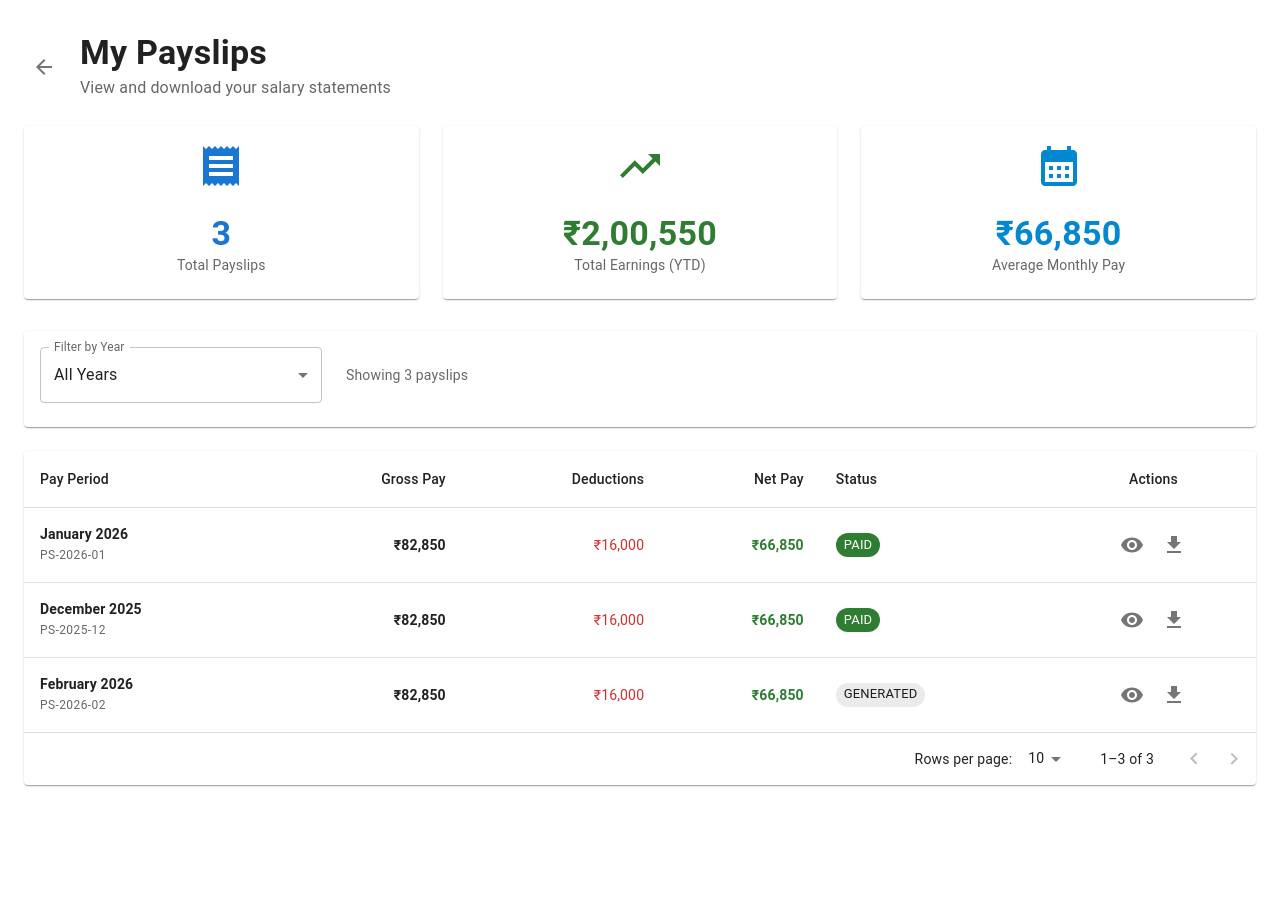
Test: EmployeePayslips › Year Filter › filters payslips by selected year
Expected: the text "January 2026" is shown, [40, 526, 128, 542]
// Open the year filter dropdown — first combobox (second is TablePagination)
Step 1. Click the dropdown labelled "All Years" → (86, 375), box [54, 366, 118, 384]
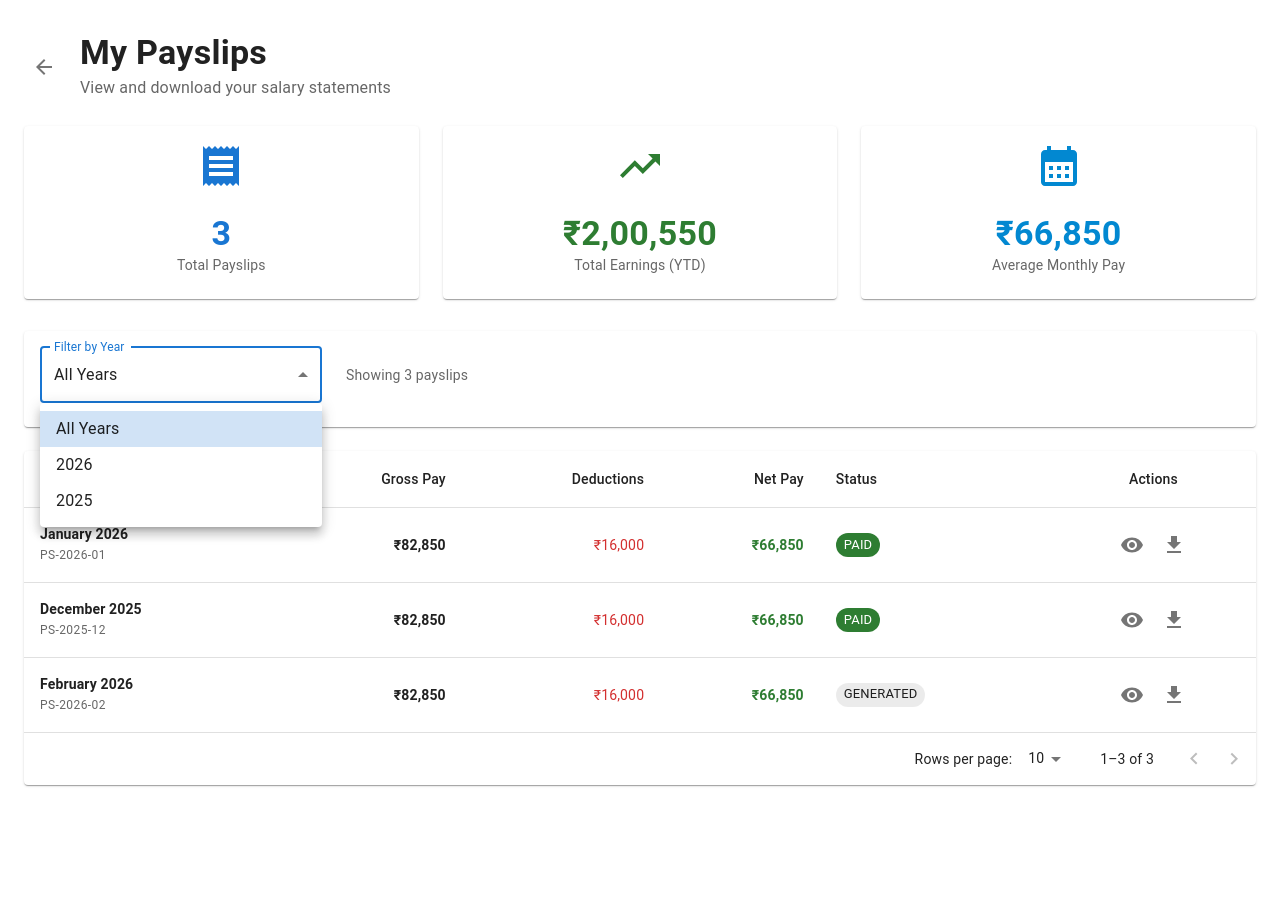
// Select 2025
Step 2. Click the option "2025" → (74, 500), box [56, 491, 93, 510]
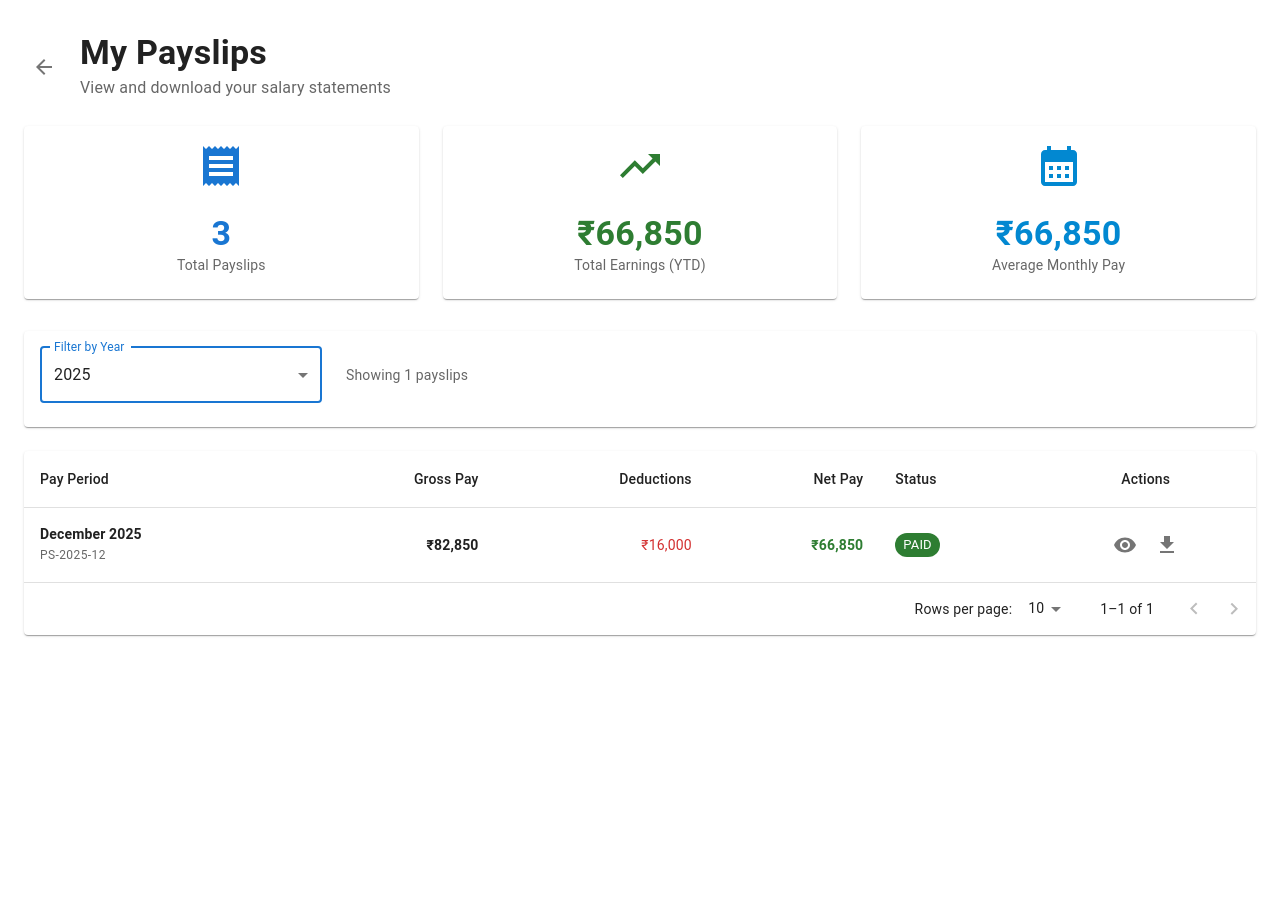
Expected: the text "December 2025" is shown, [40, 526, 142, 542]
Now the text "January 2026" is gone
